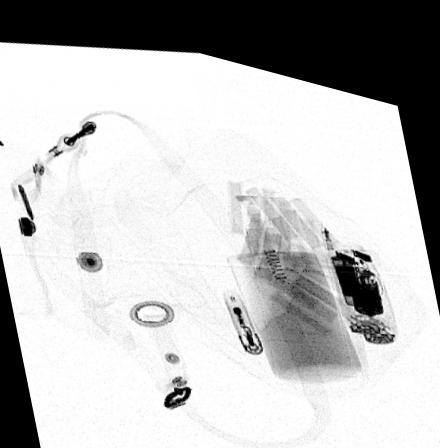Lighter: (223, 280, 263, 341)
